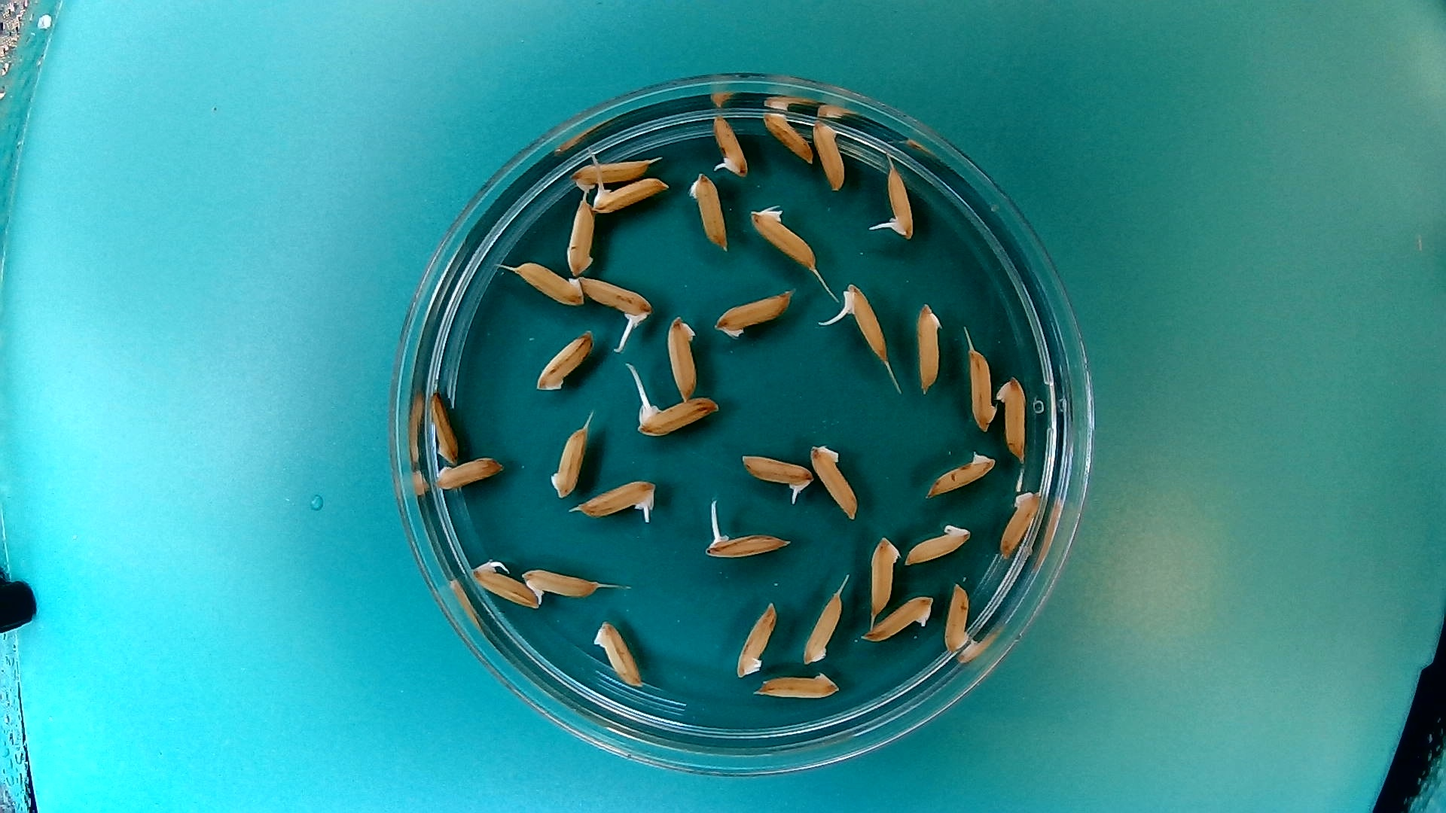no: (746, 201, 820, 273), (710, 285, 797, 342), (590, 615, 647, 690), (859, 590, 938, 644), (729, 594, 779, 679), (807, 441, 860, 521), (535, 330, 598, 396), (924, 446, 999, 500), (510, 257, 585, 309), (685, 169, 731, 253), (799, 583, 845, 667), (999, 480, 1045, 563), (545, 419, 591, 501), (565, 151, 657, 190), (903, 520, 975, 567), (664, 312, 702, 399), (761, 108, 815, 166), (810, 117, 849, 196), (866, 531, 901, 619), (996, 373, 1030, 463), (755, 667, 842, 702), (433, 455, 509, 495), (741, 455, 813, 496), (966, 343, 998, 434), (914, 298, 944, 395), (565, 189, 596, 276), (427, 385, 460, 465), (943, 577, 975, 654)
yes: (700, 510, 794, 560), (572, 475, 660, 526), (468, 555, 544, 613), (633, 390, 722, 437), (576, 272, 652, 327), (842, 279, 890, 364), (870, 158, 917, 240), (589, 172, 673, 215), (518, 564, 603, 603), (710, 111, 750, 179)
